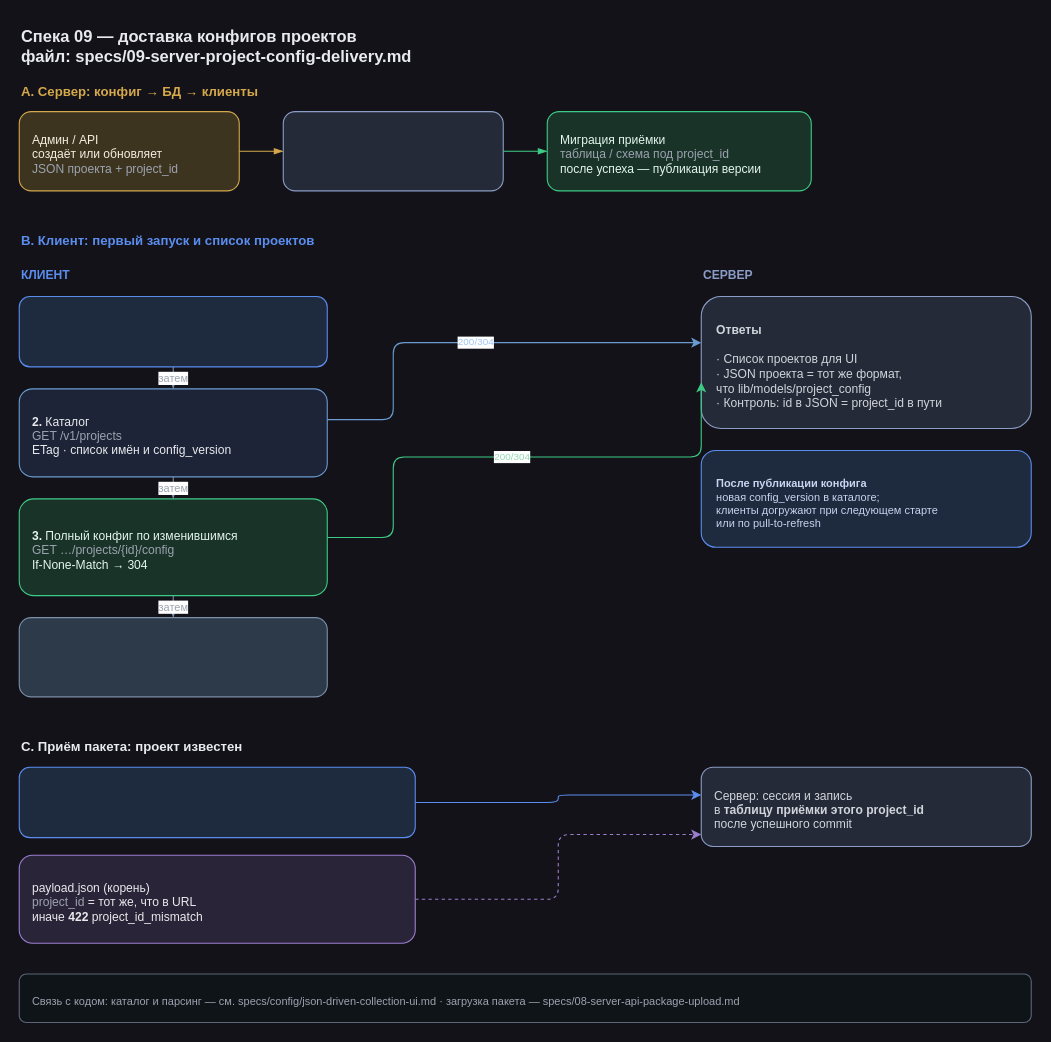
The diagram is 1051 pixels wide and 1042 high, and some of its shapes have lost their labels. The shapes that lost their labels are listed below. From the top down, each one's centre as x and y in pixels, then its label:
At (x=392, y=151): "Хранилище конфигов config_version, ETag".
At (x=172, y=331): "1. Auth (если есть) токен → доступные project_id".
At (x=172, y=657): "4. Кэш + parse → Project дашборд как с assets, но источник — сервер".
At (x=216, y=802): "Все шаги upload (спека 08) /v1/projects/ {project_id} /packages/…".
